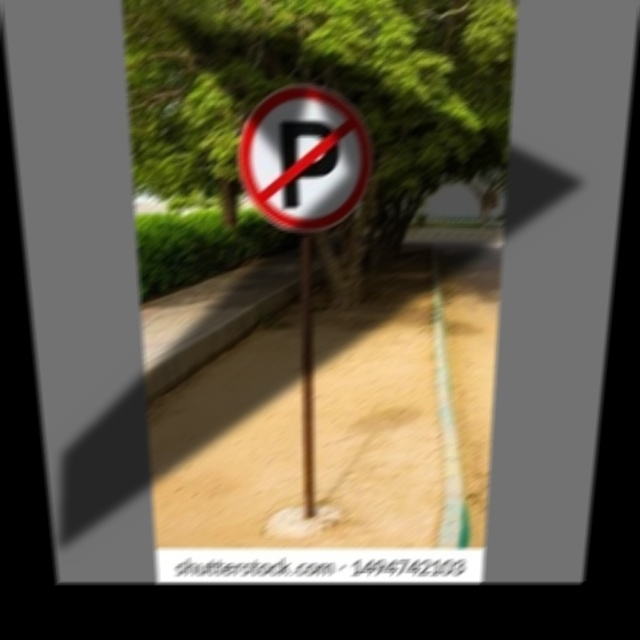No_Parking: (237, 86, 373, 234)
